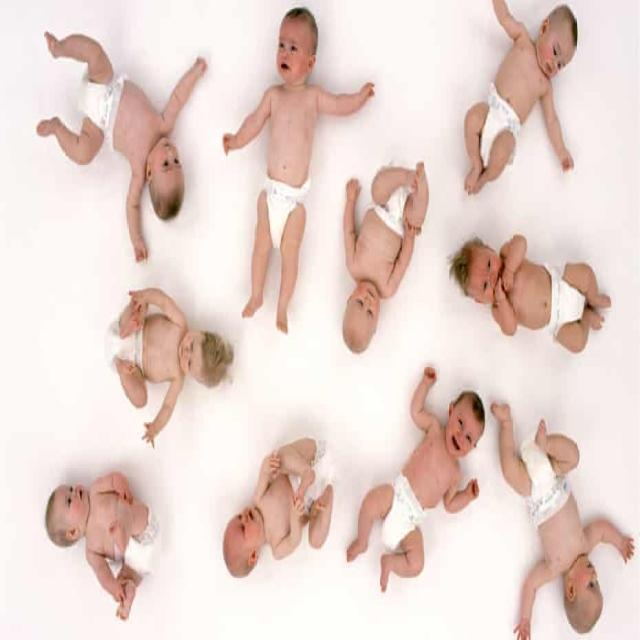non-dog: (219, 4, 377, 344), (24, 23, 211, 275), (491, 397, 638, 640), (342, 362, 490, 597), (450, 1, 599, 205), (444, 219, 617, 360), (104, 282, 237, 449), (334, 153, 434, 360), (32, 465, 162, 624), (214, 434, 335, 591)
